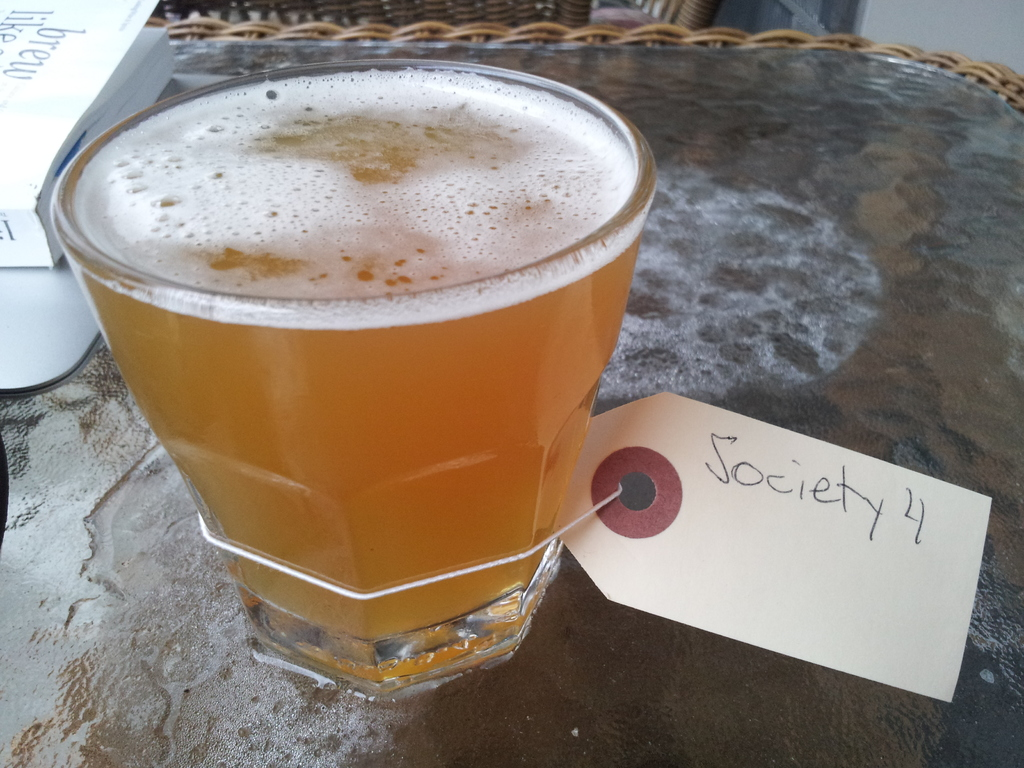Beer: (55, 54, 650, 638)
